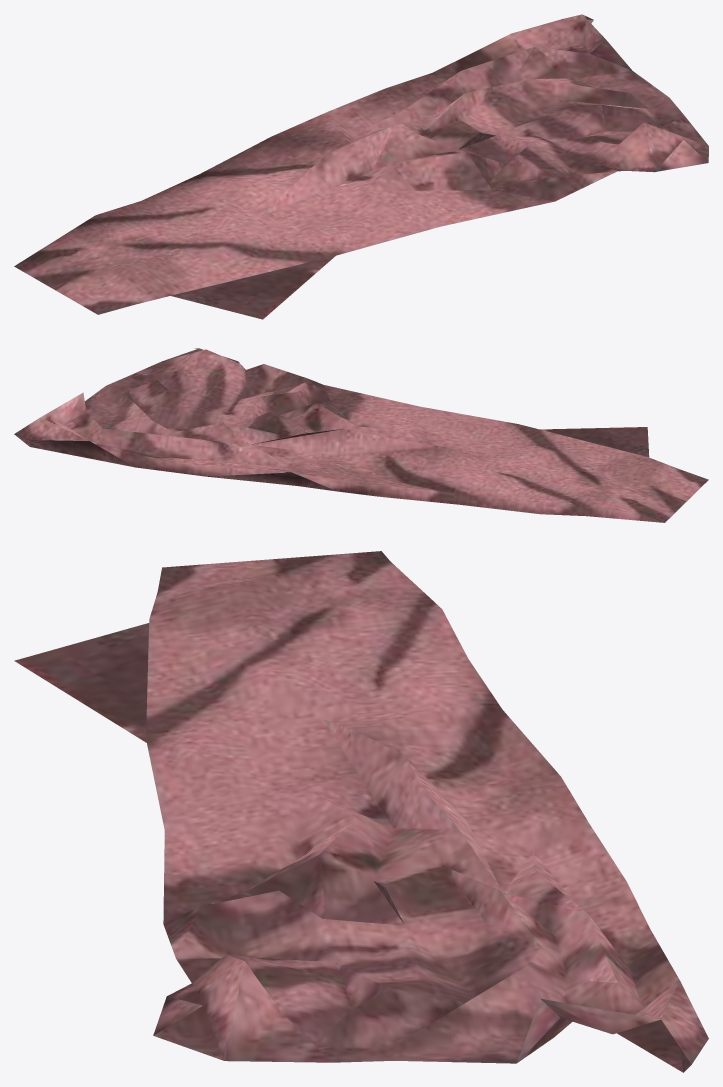
The model's file is rag_towel_pink_2_lod1_web.glb.
3 views of the same model, one above another, from view 1: azimuth 30°, elevation 25°; view 2: azimuth 150°, elevation 25°; view 3: azimuth 270°, elevation 25° (orthographic). The views are drawn at different scales.
Parts seen in each view (by area): view 1: rag_towel_pink_2_Cloth; view 2: rag_towel_pink_2_Cloth; view 3: rag_towel_pink_2_Cloth.
Boxes of the visible parts, <box> form: rag_towel_pink_2_Cloth: <box>14,14,708,319</box>; rag_towel_pink_2_Cloth: <box>14,348,708,522</box>; rag_towel_pink_2_Cloth: <box>14,551,708,1072</box>.
Bounding box in the file's own units: 0.9073 × 0.0495 × 0.5017.
1 material, 1 textured.
